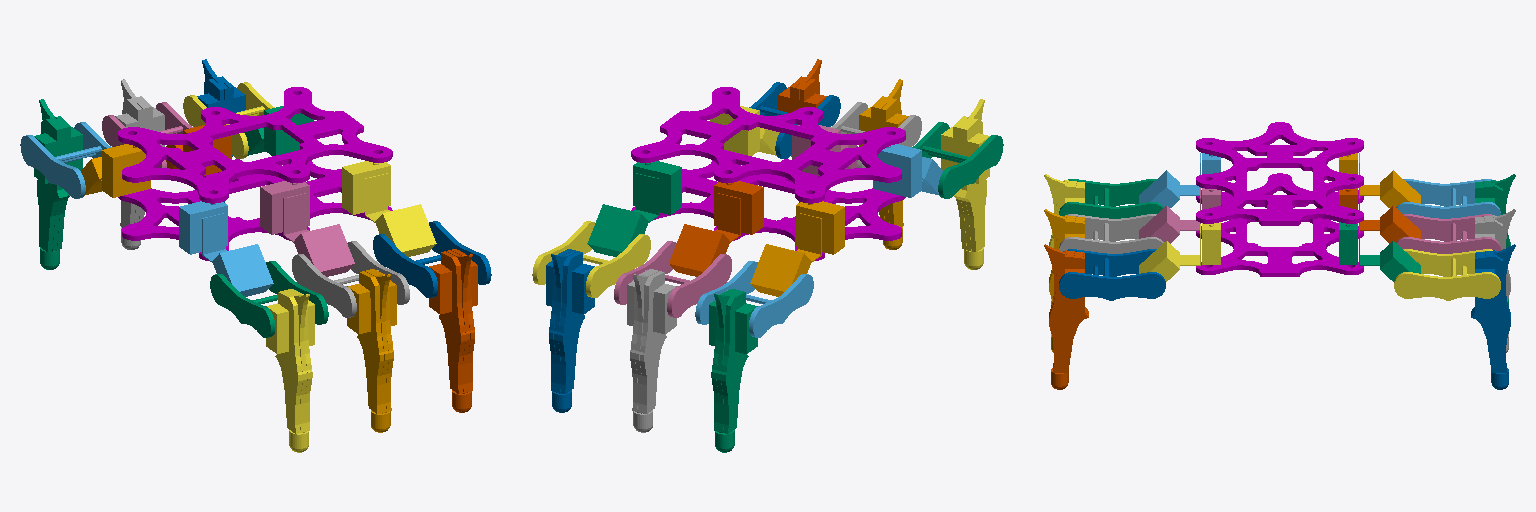
The robot description file, URDF, robot "Robert":
<?xml version="1.0"?>
<robot xmlns:xacro="http://www.ros.org/wiki/xacro" name="Robert">
	<material name="blue">
		<color rgba="0.8 0 0.8 1"/>
	</material>

  
    <!--Base-->
        <!--Actual weight is 0.059kg added 100g per base plate-->
        <link name="base_bottom">
            <visual>
                <geometry>
                    <mesh filename="robert_base.stl" />
                </geometry>
                <material name="blue"/>
            </visual>
            <collision>
                <geometry>
                    <mesh filename="robert_base.stl" />
                </geometry>
            </collision>
            <inertial>
              <mass value="0.159"/>
              <inertia ixx="0" ixy="0" ixz="0" iyy="0" iyz="0" izz="0"/>
            </inertial>
        </link>
        
        <link name="base_top">
            <visual>
                <geometry>
                    <mesh filename="robert_base.stl" />
                </geometry>
                <material name="blue"/>
            </visual>
            <collision>
                <geometry>
                    <mesh filename="robert_base.stl" />
                </geometry>
            </collision>
            <inertial>
                <mass value="0.159"/>
                <inertia ixx="0" ixy="0" ixz="0" iyy="0" iyz="0" izz="0"/>
            </inertial>
        </link>
        <joint name="base_bottom_to_top" type="fixed">
            <parent link="base_bottom"/>
            <child link="base_top"/>
            <origin xyz="0 0 0.058"/>
        </joint>
        
    <!--Right first leg A-->
        <link name = "right_first_leg_A">
            <visual>
                <geometry>
                    <mesh filename="robert_right_leg_a.stl" />
                </geometry>
                <origin rpy="0 0 0" xyz="0 0 0"/>
            </visual>
            <collision>
                <geometry>
                    <mesh filename="robert_right_leg_a.stl" />
                </geometry>
                <origin rpy="0 0 0" xyz="0 0.02 0"/>
            </collision>
            <inertial>
                <mass value="0.12"/>
                <inertia ixx="0" ixy="0" ixz="0" iyy="0" iyz="0" izz="0"/>
            </inertial>
        </link>
        <joint name="right_first_leg_Base_to_A" type="revolute">
            <axis xyz="0 0 1"/>
            <limit effort="1000.0" velocity="1.0" lower="-1.57" upper="1.57" />
            <parent link="base_bottom"/>
            <child link="right_first_leg_A"/>
            <origin rpy="0 0 0" xyz="0.085 0.07 0.03"/>
        </joint>

    <!--Right first leg B-->
        <link name = "right_first_leg_B">
            <visual>
                <geometry>
                    <mesh filename="robert_right_leg_b.stl" />
                </geometry>
            </visual>
            <collision>
                <geometry>
                    <mesh filename="robert_right_leg_b.stl" />
                </geometry>
            </collision>
            <inertial>
                <mass value="0.04"/>
                <inertia ixx="0" ixy="0" ixz="0" iyy="0" iyz="0" izz="0"/>
            </inertial>
        </link>
        <joint name="right_first_leg_A_to_B" type="revolute">
            <axis xyz="1 0 0"/>
            <limit effort="1000.0" velocity="1.0" lower="-1.57" upper="1.57" />
            <parent link="right_first_leg_A"/>
            <child link="right_first_leg_B"/>
            <origin rpy="0 0 0" xyz="0 0.06 -0.035"/>
        </joint>

    <!--Right first leg C-->
        <link name = "right_first_leg_C">
            <visual>
                <geometry>
                    <mesh filename="robert_right_leg_c.stl" />
                </geometry>
                <origin rpy="0 0 0" xyz="0 0 0"/>
            </visual>
            <collision>
                <geometry>
                    <mesh filename="robert_right_leg_c.stl" />
                </geometry>
                <origin rpy="0 0 0" xyz="0 0 0"/>
                
            </collision>
            <inertial>
                <mass value="0.06"/>
                <inertia ixx="0" ixy="0" ixz="0" iyy="0" iyz="0" izz="0"/>
            </inertial>
        </link>
        <joint name="right_first_leg_B_to_C" type="revolute">
            <axis xyz="1 0 0"/>
            <limit effort="1000.0" velocity="1.0" lower="0" upper="3.14" />
            <parent link="right_first_leg_B"/>
            <child link="right_first_leg_C"/>
            <origin rpy="-1.57 0 0" xyz="0 0.08 0"/>
        </joint>


        <!--Right second leg A-->
        <link name = "right_second_leg_A">
            <visual>
                <geometry>
                    <mesh filename="robert_right_leg_a.stl" />
                </geometry>
            </visual>
            <collision>
                <geometry>
                    <mesh filename="robert_right_leg_a.stl" />
                </geometry>
            </collision>
            <inertial>
                <mass value="0.12"/>
                <inertia ixx="0" ixy="0" ixz="0" iyy="0" iyz="0" izz="0"/>
            </inertial>
        </link>
        <joint name="right_second_leg_Base_to_A" type="revolute">
            <axis xyz="0 0 1"/>
            <limit effort="1000.0" velocity="1.0" lower="-1.57" upper="1.57" />
            <parent link="base_bottom"/>
            <child link="right_second_leg_A"/>
            <origin rpy="0 0 0" xyz="0 0.07 0.03"/>
        </joint>

    <!--Right second leg B-->
        <link name = "right_second_leg_B">
            <visual>
                <geometry>
                    <mesh filename="robert_right_leg_b.stl" />
                </geometry>
            </visual>
            <collision>
                <geometry>
                    <mesh filename="robert_right_leg_b.stl" />
                </geometry>
            </collision>
            <inertial>
                <mass value="0.04"/>
                <inertia ixx="0" ixy="0" ixz="0" iyy="0" iyz="0" izz="0"/>
            </inertial>
        </link>
        <joint name="right_second_leg_A_to_B" type="revolute">
            <axis xyz="1 0 0"/>
            <limit effort="1000.0" velocity="1.0" lower="-1.57" upper="1.57" />
            <parent link="right_second_leg_A"/>
            <child link="right_second_leg_B"/>
            <origin rpy="0 0 0" xyz="0 0.06 -0.035"/>
        </joint>

    <!--Right second leg C-->
        <link name = "right_second_leg_C">
            <visual>
                <geometry>
                    <mesh filename="robert_right_leg_c.stl" />
                </geometry>
                <origin rpy="0 0 0" xyz="0 0 0"/>
            </visual>
            <collision>
                <geometry>
                    <mesh filename="robert_right_leg_c.stl" />
                </geometry>
                <origin rpy="0 0 0" xyz="0 0 0"/>
            </collision>
            <inertial>
                <mass value="0.06"/>
                <inertia ixx="0" ixy="0" ixz="0" iyy="0" iyz="0" izz="0"/>
            </inertial>
        </link>
        <joint name="right_second_leg_B_to_C" type="revolute">
            <axis xyz="1 0 0"/>
            <limit effort="1000.0" velocity="1.0" lower="0" upper="3.14" />
            <parent link="right_second_leg_B"/>
            <child link="right_second_leg_C"/>
            <origin rpy="-1.57 0 0" xyz="0 0.08 0"/>
        </joint>



        <!--Right third leg A-->
        <link name = "right_third_leg_A">
            <visual>
                <geometry>
                    <mesh filename="robert_right_leg_a.stl" />
                </geometry>
            </visual>
            <collision>
                <geometry>
                    <mesh filename="robert_right_leg_a.stl" />
                </geometry>
            </collision>
            <inertial>
                <mass value="0.12"/>
                <inertia ixx="0" ixy="0" ixz="0" iyy="0" iyz="0" izz="0"/>
            </inertial>
        </link>
        <joint name="right_third_leg_Base_to_A" type="revolute">
            <axis xyz="0 0 1"/>
            <limit effort="1000.0" velocity="1.0" lower="-1.57" upper="1.57" />
            <parent link="base_bottom"/>
            <child link="right_third_leg_A"/>
            <origin rpy="0 0 0" xyz="-0.085 0.07 0.03"/>
        </joint>

    <!--Right third leg B-->
        <link name = "right_third_leg_B">
            <visual>
                <geometry>
                    <mesh filename="robert_right_leg_b.stl" />
                </geometry>
            </visual>
            <collision>
                <geometry>
                    <mesh filename="robert_right_leg_b.stl" />
                </geometry>
            </collision>
            <inertial>
                <mass value="0.04"/>
                <inertia ixx="0" ixy="0" ixz="0" iyy="0" iyz="0" izz="0"/>
            </inertial>
        </link>
        <joint name="right_third_leg_A_to_B" type="revolute">
            <axis xyz="1 0 0"/>
            <limit effort="1000.0" velocity="1.0" lower="-1.57" upper="1.57" />
            <parent link="right_third_leg_A"/>
            <child link="right_third_leg_B"/>
            <origin rpy="0 0 0" xyz="0 0.06 -0.035"/>
        </joint>

    <!--Right third leg C-->
        <link name = "right_third_leg_C">
            <visual>
                <geometry>
                    <mesh filename="robert_right_leg_c.stl" />
                </geometry>
                <origin rpy="0 0 0" xyz="0 0 0"/>
            </visual>
            <collision>
                <geometry>
                    <mesh filename="robert_right_leg_c.stl" />
                </geometry>
                <origin rpy="0 0 0" xyz="0 0 0"/>
            </collision>
            <inertial>
                <mass value="0.06"/>
                <inertia ixx="0" ixy="0" ixz="0" iyy="0" iyz="0" izz="0"/>
            </inertial>
        </link>
        <joint name="right_third_leg_B_to_C" type="revolute">
            <axis xyz="1 0 0"/>
            <limit effort="1000.0" velocity="1.0" lower="0" upper="3.14" />
            <parent link="right_third_leg_B"/>
            <child link="right_third_leg_C"/>
            <origin rpy="-1.57 0 0" xyz="0 0.08 0"/>
        </joint>

    
    <!--Left first leg A-->
        <link name = "left_first_leg_A">
            <visual>
                <geometry>
                    <mesh filename="robert_left_leg_a.stl" />
                </geometry>
            </visual>
            <collision>
                <geometry>
                    <mesh filename="robert_left_leg_a.stl" />
                </geometry>
            </collision>
            <inertial>
                <mass value="0.12"/>
                <inertia ixx="0" ixy="0" ixz="0" iyy="0" iyz="0" izz="0"/>
            </inertial>
        </link>
        <joint name="left_first_leg_Base_to_A" type="revolute">
            <axis xyz="0 0 1"/>
            <limit effort="1000.0" velocity="1.0" lower="-1.57" upper="1.57" />
            <parent link="base_bottom"/>
            <child link="left_first_leg_A"/>
            <origin rpy="0 0 0" xyz="0.085 -0.07 0.03"/>
        </joint>
    <!--Left first leg B-->
        <link name = "left_first_leg_B">
            <visual>
                <geometry>
                    <mesh filename="robert_left_leg_b.stl" />
                </geometry>
            </visual>
            <collision>
                <geometry>
                    <mesh filename="robert_left_leg_b.stl" />
                </geometry>
            </collision>
            <inertial>
                <mass value="0.04"/>
                <inertia ixx="0" ixy="0" ixz="0" iyy="0" iyz="0" izz="0"/>
            </inertial>
        </link>
        <joint name="left_first_leg_A_to_B" type="revolute">
            <axis xyz="1 0 0"/>
            <limit effort="1000.0" velocity="1.0" lower="-1.57" upper="1.57" />
            <parent link="left_first_leg_A"/>
            <child link="left_first_leg_B"/>
            <origin rpy="0 0 0" xyz="0 -0.06 -0.035"/>
        </joint>
    <!--Left first leg C-->
        <link name = "left_first_leg_C">
            <visual>
                <geometry>
                    <mesh filename="robert_left_leg_c.stl" />
                </geometry>
            </visual>
            <collision>
                <geometry>
                    <mesh filename="robert_left_leg_c.stl" />
                </geometry>
            </collision>
            <inertial>
                <mass value="0.06"/>
                <inertia ixx="0" ixy="0" ixz="0" iyy="0" iyz="0" izz="0"/>
            </inertial>
        </link>
        <joint name="left_first_leg_B_to_C" type="revolute">
            <axis xyz="1 0 0"/>
            <limit effort="1000.0" velocity="1.0" lower="-3.14" upper="0" />
            <parent link="left_first_leg_B"/>
            <child link="left_first_leg_C"/>
            <origin rpy="1.57 0 0" xyz="0 -0.08 0"/>
        </joint>

    <!--Left second leg A-->
    <link name = "left_second_leg_A">
        <visual>
            <geometry>
                    <mesh filename="robert_left_leg_a.stl" />
            </geometry>
        </visual>
        <collision>
            <geometry>
                    <mesh filename="robert_left_leg_a.stl" />
            </geometry>
        </collision>
        <inertial>
            <mass value="0.12"/>
            <inertia ixx="0" ixy="0" ixz="0" iyy="0" iyz="0" izz="0"/>
        </inertial>
    </link>
    <joint name="left_second_leg_Base_to_A" type="revolute">
        <axis xyz="0 0 1"/>
        <limit effort="1000.0" velocity="1.0" lower="-1.57" upper="1.57" />
        <parent link="base_bottom"/>
        <child link="left_second_leg_A"/>
        <origin rpy="0 0 0" xyz="0 -0.07 0.03"/>
    </joint>
<!--Left second leg B-->
    <link name = "left_second_leg_B">
        <visual>
            <geometry>
                <mesh filename="robert_left_leg_b.stl" />
            </geometry>
        </visual>
        <collision>
             <geometry>
                    <mesh filename="robert_left_leg_b.stl" />
            </geometry>
        </collision>
        <inertial>
            <mass value="0.04"/>
            <inertia ixx="0" ixy="0" ixz="0" iyy="0" iyz="0" izz="0"/>
        </inertial>
    </link>
    <joint name="left_second_leg_A_to_B" type="revolute">
        <axis xyz="1 0 0"/>
        <limit effort="1000.0" velocity="1.0" lower="-1.57" upper="1.57" />
        <parent link="left_second_leg_A"/>
        <child link="left_second_leg_B"/>
        <origin rpy="0 0 0" xyz="0 -0.06 -0.035"/>
    </joint>
<!--Left second leg C-->
    <link name = "left_second_leg_C">
        <visual>
            <geometry>
                <mesh filename="robert_left_leg_c.stl" />
            </geometry>
        </visual>
        <collision>
            <geometry>
                <mesh filename="robert_left_leg_c.stl" />
            </geometry>
        </collision>
        <inertial>
            <mass value="0.06"/>
            <inertia ixx="0" ixy="0" ixz="0" iyy="0" iyz="0" izz="0"/>
        </inertial>
    </link>
    <joint name="left_second_leg_B_to_C" type="revolute">
        <axis xyz="1 0 0"/>
        <limit effort="1000.0" velocity="1.0" lower="-3.14" upper="0" />
        <parent link="left_second_leg_B"/>
        <child link="left_second_leg_C"/>
        <origin rpy="1.57 0 0" xyz="0 -0.08 0"/>
    </joint>


<!--Left third leg A-->
    <link name = "left_third_leg_A">
        <visual>
            <geometry>
                <mesh filename="robert_left_leg_a.stl" />
            </geometry>
        </visual>
        <collision>
            <geometry>
                <mesh filename="robert_left_leg_a.stl" />
            </geometry>
        </collision>
        <inertial>
            <mass value="0.12"/>
            <inertia ixx="0" ixy="0" ixz="0" iyy="0" iyz="0" izz="0"/>
        </inertial>
    </link>
    <joint name="left_third_leg_Base_to_A" type="revolute">
        <axis xyz="0 0 1"/>
        <limit effort="1000.0" velocity="1.0" lower="-1.57" upper="1.57" />
        <parent link="base_bottom"/>
        <child link="left_third_leg_A"/>
        <origin rpy="0 0 0" xyz="-0.085 -0.07 0.03"/>
    </joint>
<!--Left third leg B-->
    <link name = "left_third_leg_B">
        <visual>
            <geometry>
                <mesh filename="robert_left_leg_b.stl" />
            </geometry>
        </visual>
        <collision>
            <geometry>
                <mesh filename="robert_left_leg_b.stl" />
            </geometry>
        </collision>
        <inertial>
            <mass value="0.04"/>
            <inertia ixx="0" ixy="0" ixz="0" iyy="0" iyz="0" izz="0"/>
        </inertial>
    </link>
    <joint name="left_third_leg_A_to_B" type="revolute">
        <axis xyz="1 0 0"/>
        <limit effort="1000.0" velocity="1.0" lower="-1.57" upper="1.57" />
        <parent link="left_third_leg_A"/>
        <child link="left_third_leg_B"/>
        <origin rpy="0 0 0" xyz="0 -0.06 -0.035"/>
    </joint>
<!--Left third leg C-->
    <link name = "left_third_leg_C">
        <visual>
            <geometry>
                <mesh filename="robert_left_leg_c.stl" />
            </geometry>
        </visual>
        <collision>
            <geometry>
                <mesh filename="robert_left_leg_c.stl" />
            </geometry>
        </collision>
        <inertial>
            <mass value="0.06"/>
            <inertia ixx="0" ixy="0" ixz="0" iyy="0" iyz="0" izz="0"/>
        </inertial>
    </link>
    <joint name="left_third_leg_B_to_C" type="revolute">
        <axis xyz="1 0 0"/>
        <limit effort="1000.0" velocity="1.0" lower="-3.14" upper="0" />
        <parent link="left_third_leg_B"/>
        <child link="left_third_leg_C"/>
        <origin rpy="1.57 0 0" xyz="0 -0.08 0"/>
    </joint>

</robot>

--- Render facts (derived) ---
3 views of the same robot in one strip: view 1: azimuth 30°, elevation 25°; view 2: azimuth 150°, elevation 25°; view 3: azimuth 270°, elevation 25° (orthographic).
Robot: Robert — 20 links, 19 joints (18 revolute, 1 fixed); root link base_bottom; default pose: all joints at 0.
Links seen in each view (by area): view 1: base_top, base_bottom, left_second_leg_C, left_first_leg_C, left_third_leg_C, left_second_leg_A, left_first_leg_A, left_third_leg_A, right_third_leg_C, left_third_leg_B, left_first_leg_B, left_second_leg_B (+8 smaller); view 2: base_top, base_bottom, right_second_leg_C, right_first_leg_C, right_third_leg_C, right_second_leg_A, right_first_leg_A, right_third_leg_A, left_third_leg_C, right_third_leg_B, right_first_leg_B, right_second_leg_B (+8 smaller); view 3: base_top, base_bottom, right_first_leg_B, left_first_leg_B, right_first_leg_C, left_first_leg_C, right_second_leg_B, left_second_leg_B, right_third_leg_B, left_third_leg_B, right_first_leg_A, left_first_leg_A (+8 smaller).
Link boxes in pixels (x1,y1,x2,y2): base_top: (118, 87, 392, 203); base_bottom: (118, 160, 392, 260); left_second_leg_C: (347, 269, 396, 432); left_first_leg_C: (429, 249, 477, 412); left_third_leg_C: (266, 289, 314, 452); left_second_leg_A: (260, 181, 354, 276); left_first_leg_A: (342, 161, 436, 256); left_third_leg_A: (179, 201, 273, 296); right_third_leg_C: (34, 99, 82, 269); left_third_leg_B: (210, 261, 328, 337); left_first_leg_B: (373, 221, 491, 297); left_second_leg_B: (292, 241, 409, 317); base_top: (631, 87, 905, 203); base_bottom: (631, 160, 905, 260); right_second_leg_C: (627, 269, 676, 432); right_first_leg_C: (546, 249, 594, 412); right_third_leg_C: (709, 289, 757, 452); right_second_leg_A: (669, 181, 763, 276); right_first_leg_A: (587, 161, 681, 256); right_third_leg_A: (750, 201, 844, 296); left_third_leg_C: (941, 99, 989, 269); right_third_leg_B: (695, 261, 813, 337); right_first_leg_B: (532, 221, 650, 297); right_second_leg_B: (614, 241, 731, 317); base_top: (1196, 122, 1363, 225); base_bottom: (1196, 173, 1363, 276); right_first_leg_B: (1394, 249, 1500, 300); left_first_leg_B: (1059, 249, 1165, 300); right_first_leg_C: (1471, 244, 1515, 389); left_first_leg_C: (1044, 244, 1088, 389); right_second_leg_B: (1396, 214, 1500, 253); left_second_leg_B: (1059, 214, 1163, 253); right_third_leg_B: (1396, 179, 1500, 218); left_third_leg_B: (1059, 179, 1163, 218); right_first_leg_A: (1339, 222, 1420, 281); left_first_leg_A: (1139, 222, 1220, 281).
Bounding box of the posed robot: 0.2537 × 0.482 × 0.1968 m (x, y, z).
20 mesh visuals loaded from 7 distinct referenced files (7 binary STL).
